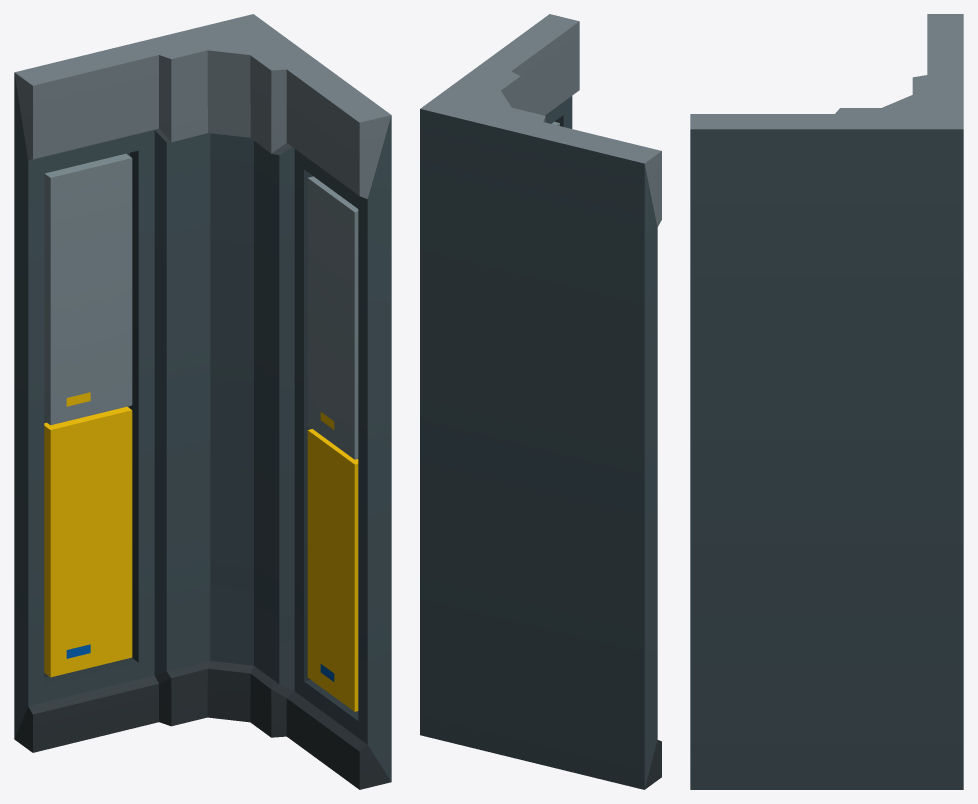
Rendered from Wall_type_C_023.fbx.
3 renders of one model, left to right at view 1: azimuth 30°, elevation 25°; view 2: azimuth 150°, elevation 25°; view 3: azimuth 270°, elevation 25°, orthographic. The views are drawn at different scales.
Parts seen in each view (by area): view 1: Wall_type_C_023; view 2: Wall_type_C_023; view 3: Wall_type_C_023.
Part boxes in pixels (x1,y1,x2,y2): Wall_type_C_023: (14, 14, 391, 789); Wall_type_C_023: (420, 14, 661, 789); Wall_type_C_023: (690, 14, 963, 789).
Size of the model in its own units: 150 by 150 by 400.
